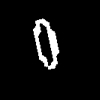chain: (33, 19, 58, 68)
